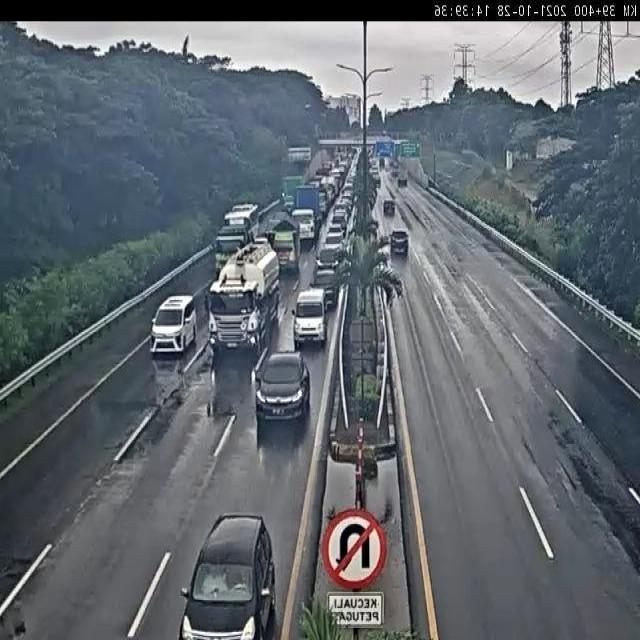Bus: (223, 201, 264, 244)
Car: (176, 512, 276, 640), (254, 350, 310, 423), (148, 292, 198, 354), (311, 269, 340, 305), (314, 246, 341, 272), (387, 228, 412, 256), (322, 230, 344, 258), (332, 213, 348, 233), (381, 198, 396, 218), (333, 202, 351, 218), (328, 220, 344, 234)
Truck: (207, 235, 281, 354), (212, 226, 251, 280), (291, 183, 321, 243), (271, 215, 301, 274), (278, 173, 304, 218), (397, 165, 409, 187)
Van: (292, 286, 330, 347)
